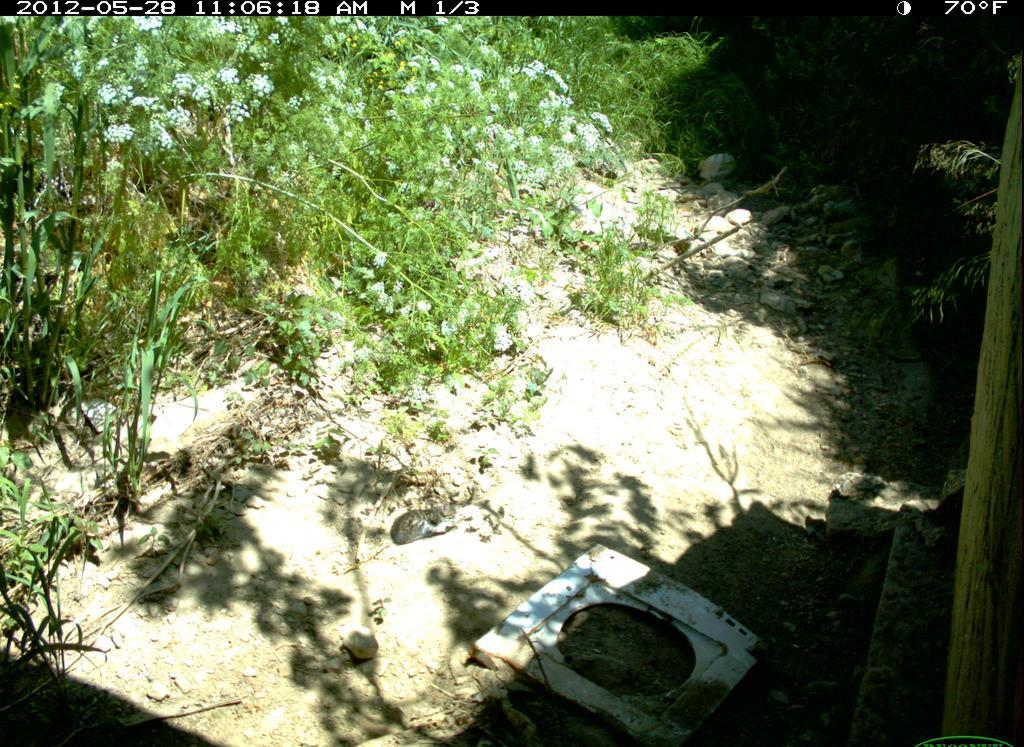cat: (389, 501, 457, 549)
